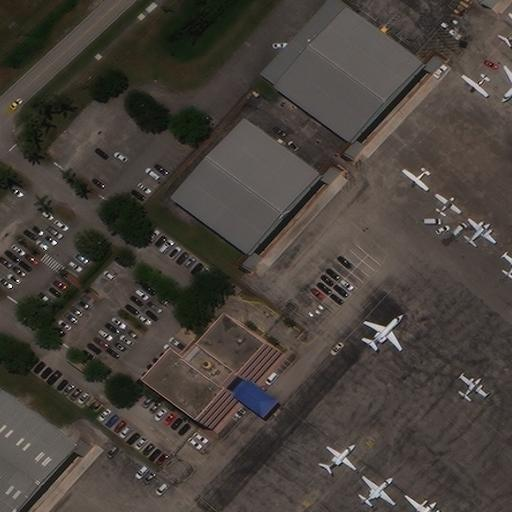Medium Civil Transport: (362, 313, 403, 350), (404, 494, 440, 511), (502, 66, 511, 102)
Small Civil Transport: (362, 475, 396, 504), (325, 443, 356, 470), (468, 217, 497, 242), (461, 373, 487, 397), (460, 75, 487, 98), (401, 169, 427, 191), (436, 193, 462, 212), (504, 253, 511, 277)
